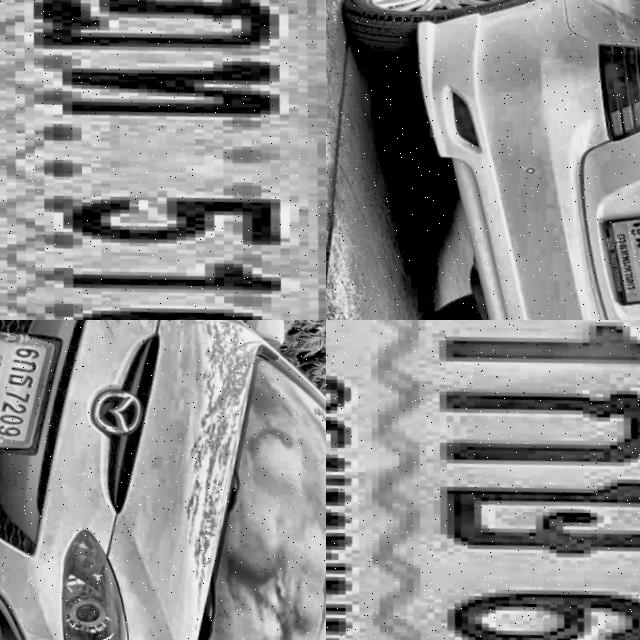license-plate: (0, 0, 326, 320), (326, 320, 640, 640), (0, 328, 67, 455), (579, 209, 640, 314)
